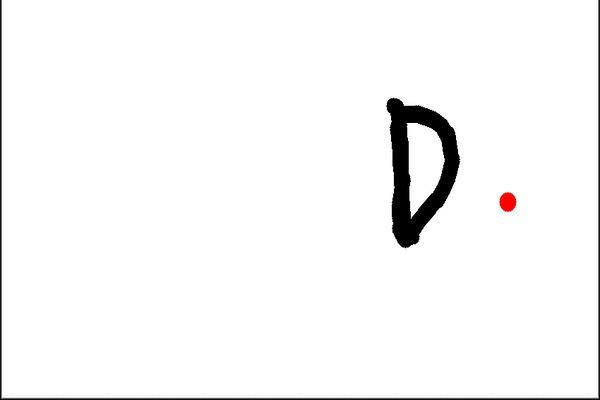D: (381, 92, 470, 253)
